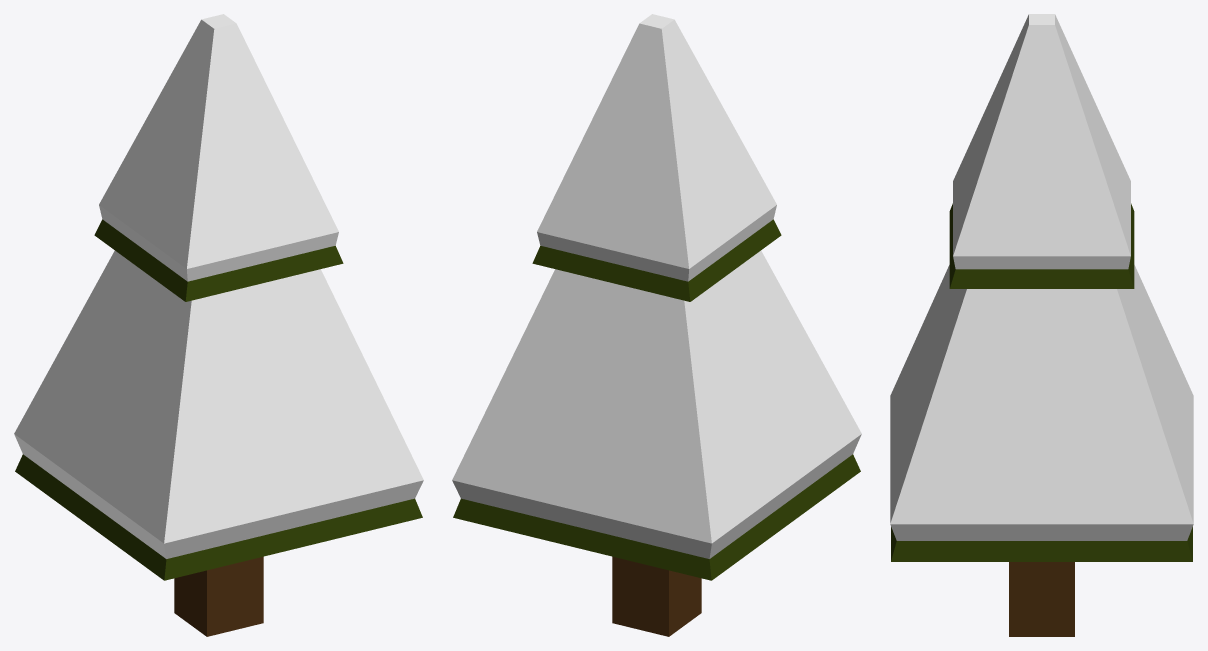
Rendered from WinterTreeSpruce_02.fbx.
3 renders of one model, left to right at view 1: azimuth 30°, elevation 25°; view 2: azimuth 150°, elevation 25°; view 3: azimuth 270°, elevation 25°, orthographic.
Visible parts, largest first — view 1: WinterTreeSpruce_02; view 2: WinterTreeSpruce_02; view 3: WinterTreeSpruce_02.
Boxes of the visible parts, x1=… form: WinterTreeSpruce_02: x1=14, y1=14, x2=423, y2=636; WinterTreeSpruce_02: x1=452, y1=14, x2=861, y2=636; WinterTreeSpruce_02: x1=890, y1=14, x2=1193, y2=636.
Size of the model in its own units: 0.3328 by 0.7301 by 0.3328.
